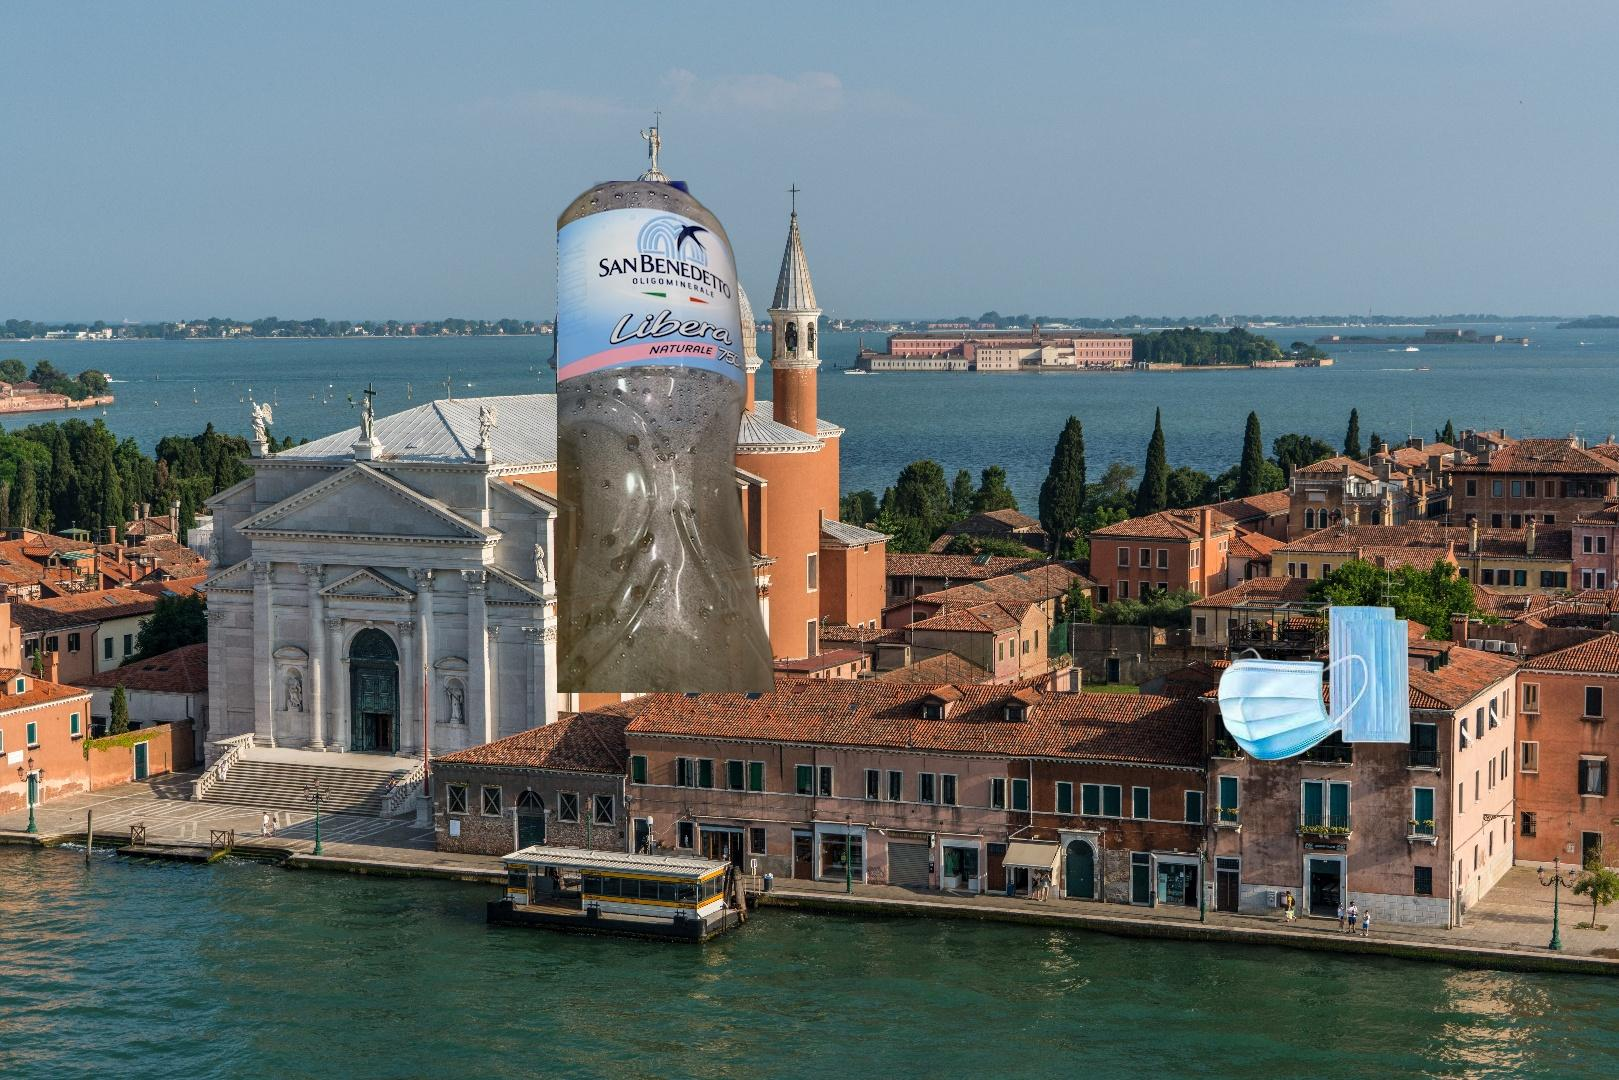plastic-bottles: (557, 181, 829, 693)
trash: (1215, 603, 1413, 763)
